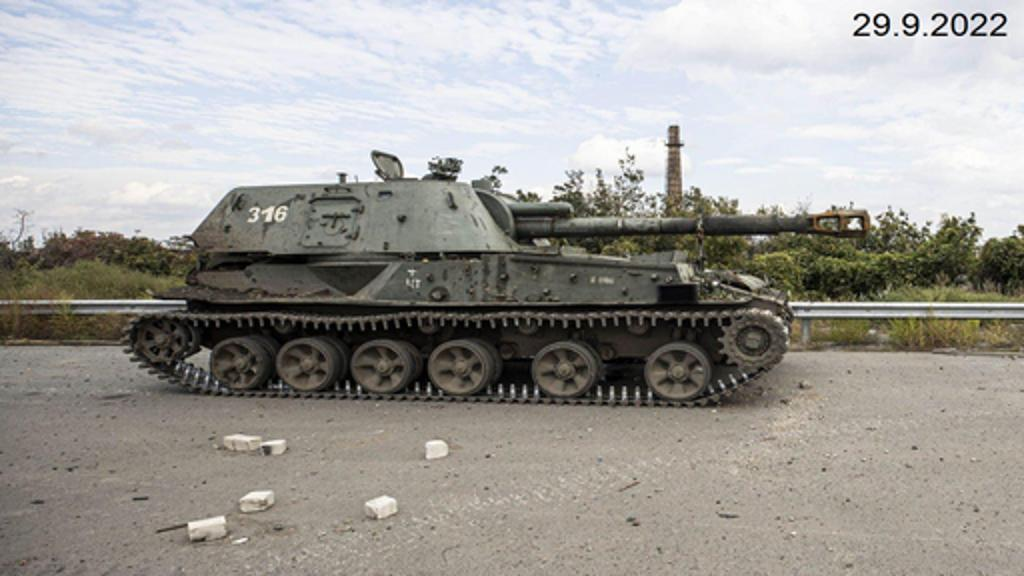ART: (130, 158, 870, 410)
